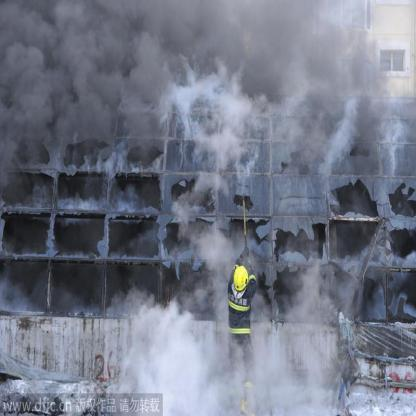smoke: (1, 3, 383, 94), (3, 96, 415, 160), (220, 335, 334, 414), (134, 306, 214, 412), (294, 258, 336, 334)
